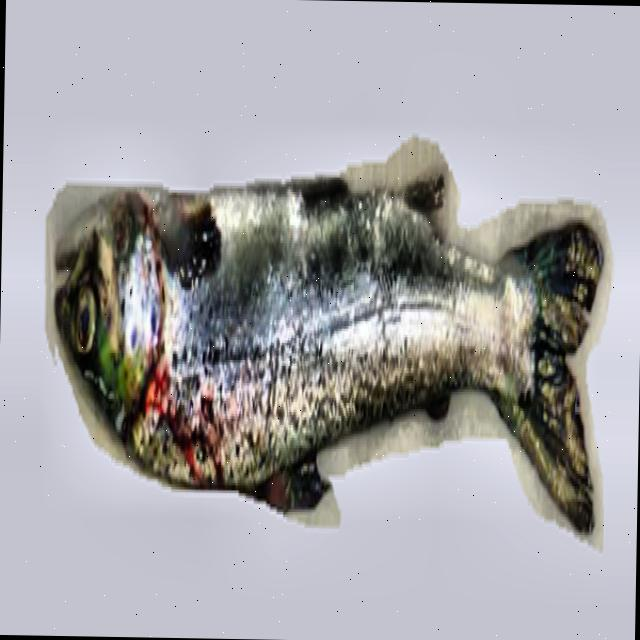mild_red: (168, 196, 535, 482)
